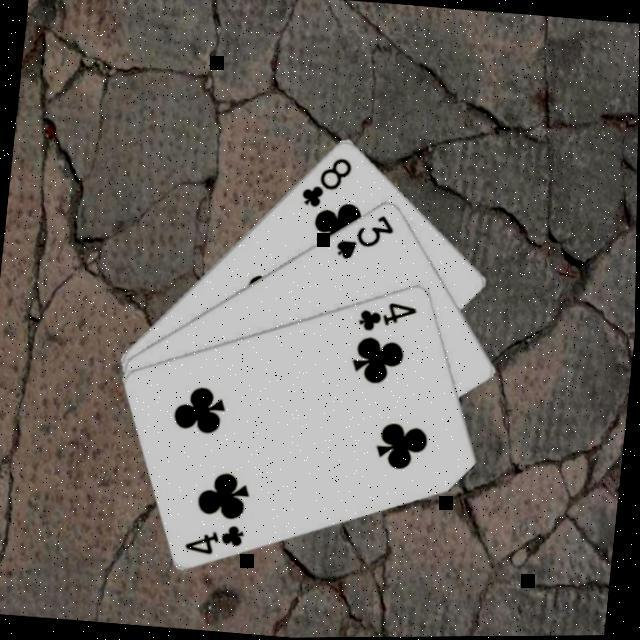3S: (330, 206, 397, 264)
4C: (180, 514, 248, 558), (353, 294, 420, 335)
8C: (295, 148, 355, 210)
